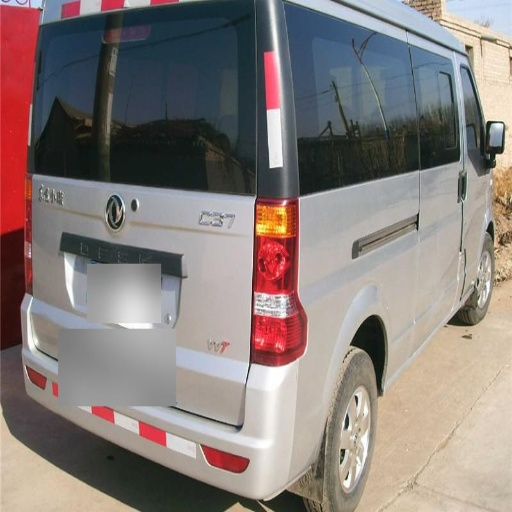back_bumper: (161, 359, 340, 497), (21, 294, 63, 394)
tailgate: (35, 173, 249, 334)
trunk: (37, 198, 258, 424), (325, 177, 437, 356)
